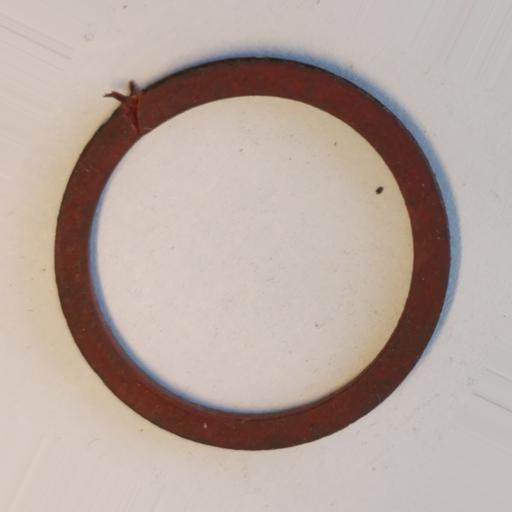defect: (104, 81, 144, 135)
